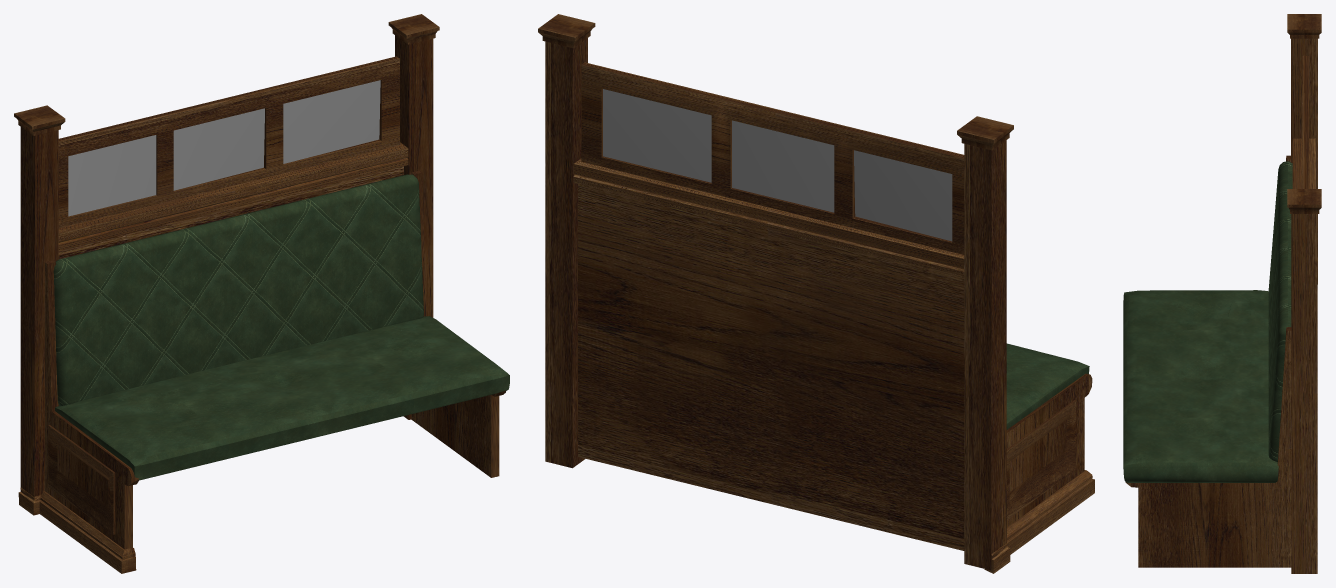
The model's file is Furniture 3.FBX.
The picture shows the model from 3 angles, left to right: view 1: azimuth 30°, elevation 25°; view 2: azimuth 150°, elevation 25°; view 3: azimuth 270°, elevation 25°; orthographic projection. The views are drawn at different scales.
Parts seen in each view (by area): view 1: Furniture 3; view 2: Furniture 3; view 3: Furniture 3.
Part boxes in pixels (x1,y1,x2,y2): Furniture 3: [14, 14, 509, 573]; Furniture 3: [538, 14, 1094, 573]; Furniture 3: [1123, 14, 1321, 573].
Bounding box in the file's own units: 168 × 153 × 73.78.
Materials: 4 (3 with a texture image).
